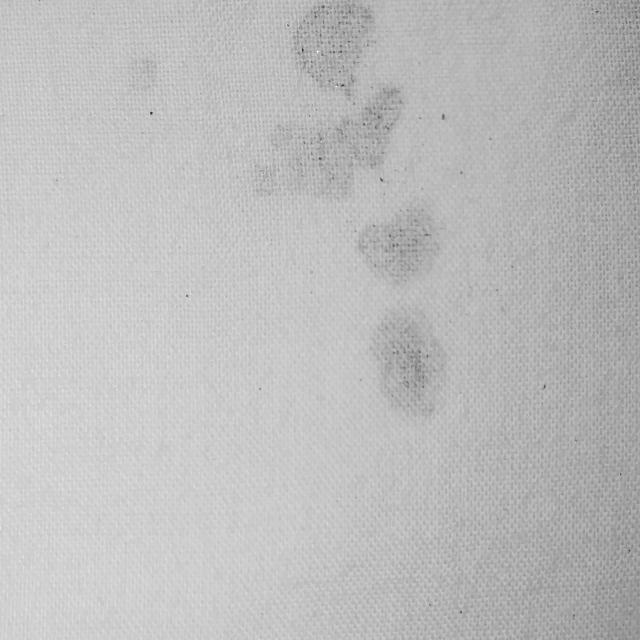Hole: (236, 0, 482, 444)
